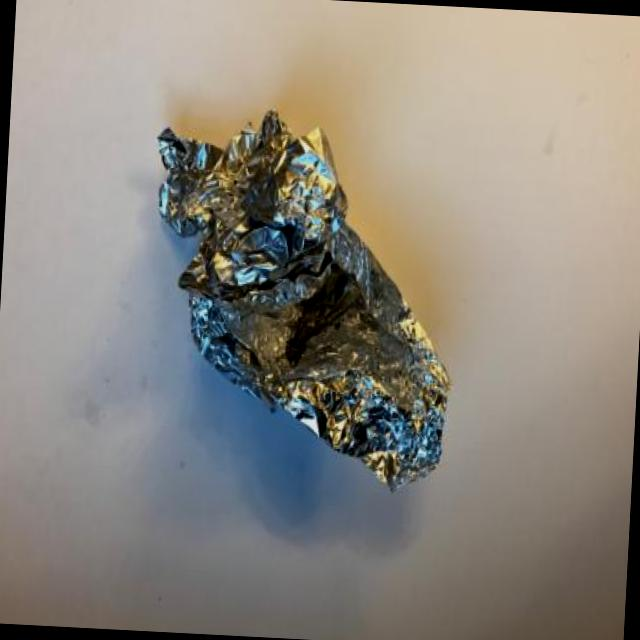nhom: (157, 109, 453, 491)
